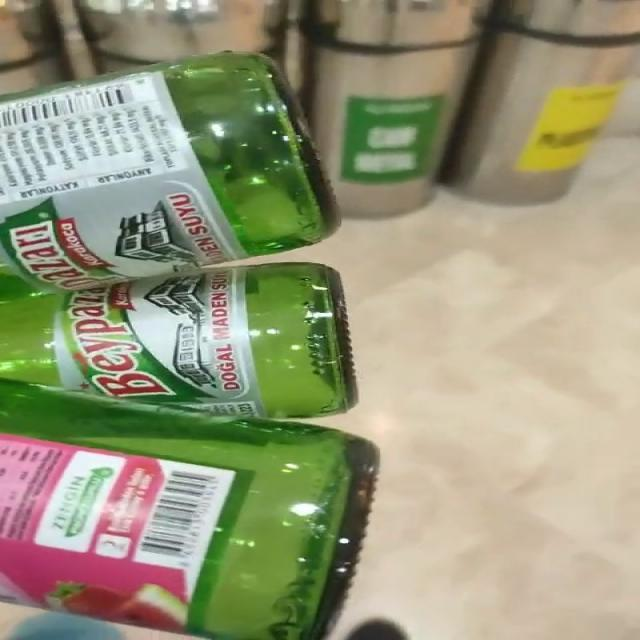Glass: (1, 52, 379, 640)
